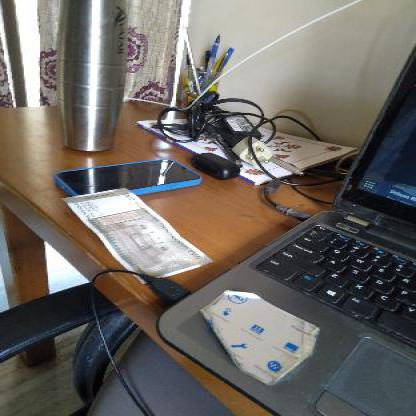New500Back: (62, 188, 213, 282)
